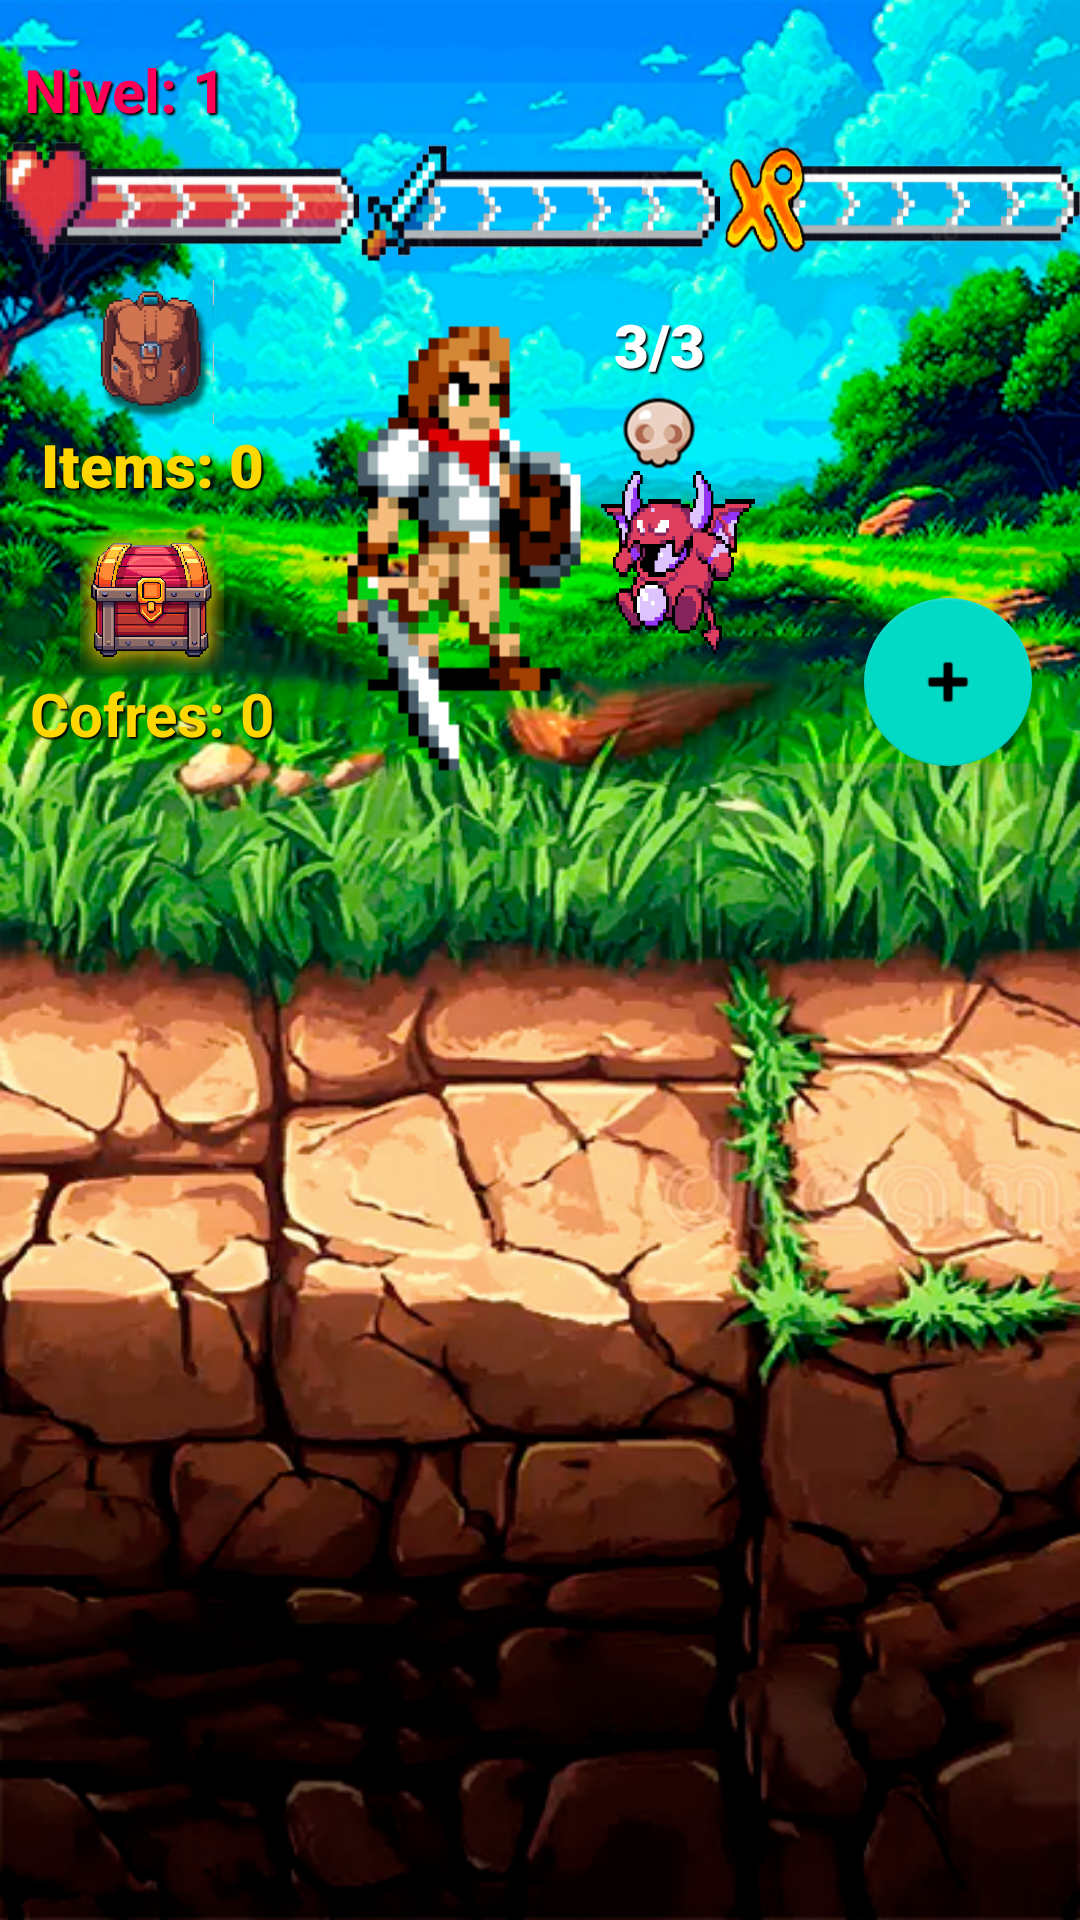

Point at icon controls on the screen. Image size 1080w x 1920h, points as point (x, y).
Añadir misión: point (948, 682)
bag: point (152, 352)
chest: point (152, 601)
exp: point (900, 202)
